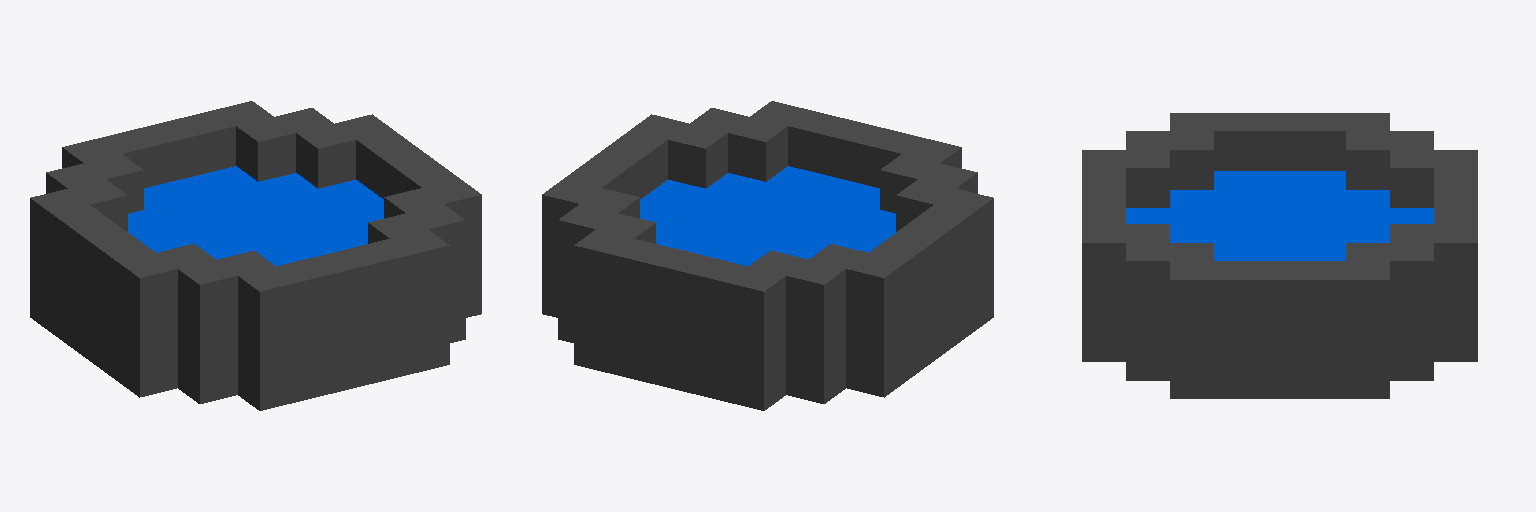
3 renders of one model, left to right at view 1: azimuth 30°, elevation 25°; view 2: azimuth 150°, elevation 25°; view 3: azimuth 270°, elevation 25°, orthographic.
Parts seen in each view (by area): view 1: Matrix; view 2: Matrix; view 3: Matrix.
Part boxes in pixels (left/top/right/bottom): Matrix: left=30, top=101, right=481, bottom=410; Matrix: left=542, top=101, right=993, bottom=410; Matrix: left=1082, top=113, right=1477, bottom=398.
Size of the model in its own units: 9 by 3 by 9.
Materials: 1 (1 with a texture image).